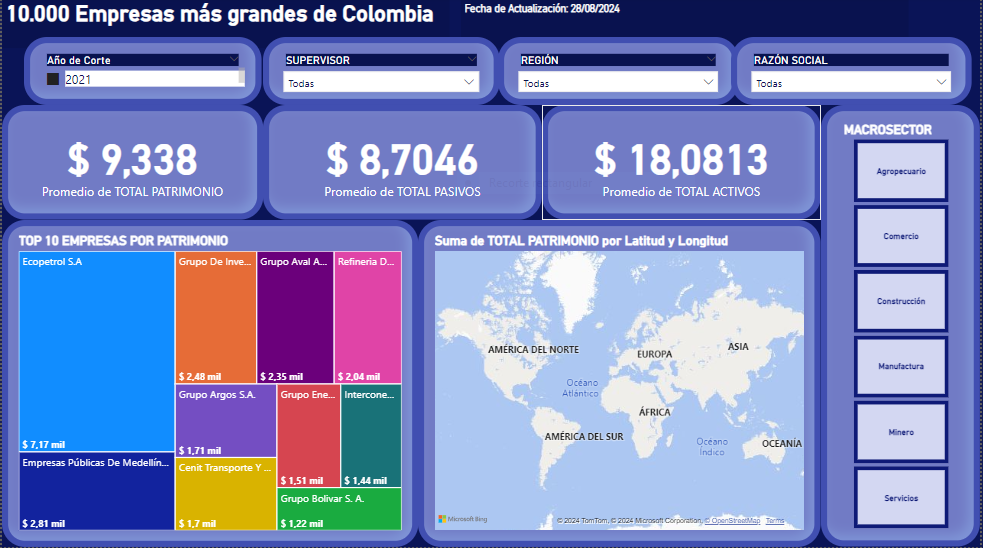

Layout of this report page (visuals, bound fields, positions):
{"tool":"powerbi","page":{"name":"Página 1","canvas":[1280,720],"ordinal":0},"visuals":[{"type":"textbox","box":[0,0,586.2,67.2],"z":0},{"type":"textbox","box":[600.7,0,586,67.1],"z":1000},{"type":"map","fields":{"Y":["latlong - LAT_LON.Latitud"],"X":["latlong - LAT_LON.Longitud"],"Size":["Sum(10 000_Empresas_mas_Grandes_del_Pa_s_20240827.TOTAL PATRIMONIO)"]},"box":[545,291.7,526.7,428.3],"z":2000},{"type":"treemap","title":"TOP 10 EMPRESAS POR PATRIMONIO","fields":{"Group":["10 000_Empresas_mas_Grandes_del_Pa_s_20240827.RAZÓN SOCIAL"],"Values":["Sum(10 000_Empresas_mas_Grandes_del_Pa_s_20240827.TOTAL PATRIMONIO)"]},"box":[0,291.7,545,428.3],"z":3000},{"type":"slicer","fields":{"Values":["10 000_Empresas_mas_Grandes_del_Pa_s_20240827.Año de Corte"]},"box":[28.8,51.8,311,89.3],"z":4000},{"type":"slicer","fields":{"Values":["10 000_Empresas_mas_Grandes_del_Pa_s_20240827.SUPERVISOR"]},"box":[341.3,51.8,309.6,89.3],"z":5000},{"type":"card","fields":{"Values":["Avg(10 000_Empresas_mas_Grandes_del_Pa_s_20240827.TOTAL PATRIMONIO)"]},"box":[0,141.7,341.7,150],"z":6000},{"type":"card","fields":{"Values":["Avg(10 000_Empresas_mas_Grandes_del_Pa_s_20240827.TOTAL PASIVOS)"]},"box":[341.7,141.7,365,150],"z":7000},{"type":"card","fields":{"Values":["Avg(10 000_Empresas_mas_Grandes_del_Pa_s_20240827.TOTAL ACTIVOS)"]},"box":[706.7,141.7,365,150],"z":8000},{"type":"slicer","fields":{"Values":["10 000_Empresas_mas_Grandes_del_Pa_s_20240827.MACROSECTOR"]},"box":[1071.7,141.7,208.3,578.3],"z":9000},{"type":"slicer","fields":{"Values":["10 000_Empresas_mas_Grandes_del_Pa_s_20240827.REGIÓN"]},"box":[649.4,51.8,315.4,89.3],"z":9001},{"type":"slicer","fields":{"Values":["10 000_Empresas_mas_Grandes_del_Pa_s_20240827.RAZÓN SOCIAL"]},"box":[954.7,51.8,315.4,89.3],"z":9002}]}

Visuals, with their boxes in screenshot pixels (x1, y1, x2, y2), scaled from the page's 1280x720 canvas onto the 983x548 screenshot:
textbox: l=0, t=0, r=450, b=51
textbox: l=461, t=0, r=911, b=51
map - latlong - LAT_LON.Latitud x latlong - LAT_LON.Longitud: l=419, t=222, r=823, b=547
"TOP 10 EMPRESAS POR PATRIMONIO" treemap: l=0, t=222, r=419, b=547
slicer - 10 000_Empresas_mas_Grandes_del_Pa_s_20240827.Año de Corte: l=22, t=39, r=261, b=107
slicer - 10 000_Empresas_mas_Grandes_del_Pa_s_20240827.SUPERVISOR: l=262, t=39, r=500, b=107
card - Avg(10 000_Empresas_mas_Grandes_del_Pa_s_20240827.TOTAL PATRIMONIO): l=0, t=108, r=262, b=222
card - Avg(10 000_Empresas_mas_Grandes_del_Pa_s_20240827.TOTAL PASIVOS): l=262, t=108, r=543, b=222
card - Avg(10 000_Empresas_mas_Grandes_del_Pa_s_20240827.TOTAL ACTIVOS): l=543, t=108, r=823, b=222
slicer - 10 000_Empresas_mas_Grandes_del_Pa_s_20240827.MACROSECTOR: l=823, t=108, r=982, b=547
slicer - 10 000_Empresas_mas_Grandes_del_Pa_s_20240827.REGIÓN: l=499, t=39, r=741, b=107
slicer - 10 000_Empresas_mas_Grandes_del_Pa_s_20240827.RAZÓN SOCIAL: l=733, t=39, r=975, b=107
